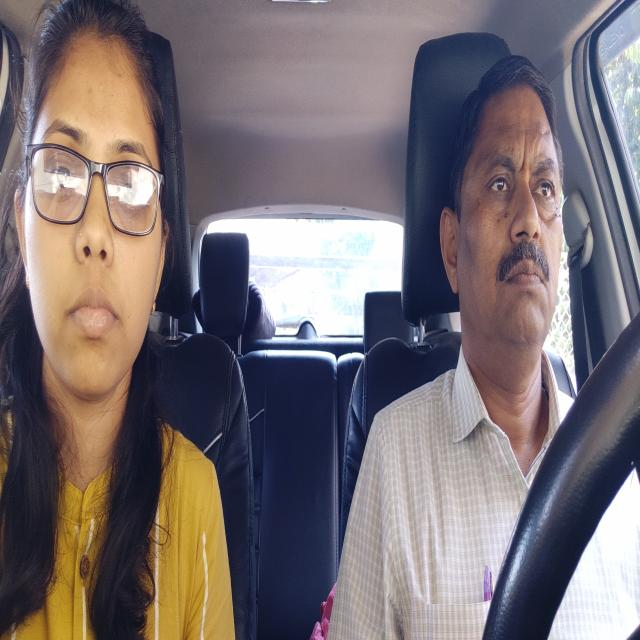person: (21, 22, 168, 394), (449, 88, 564, 354)
